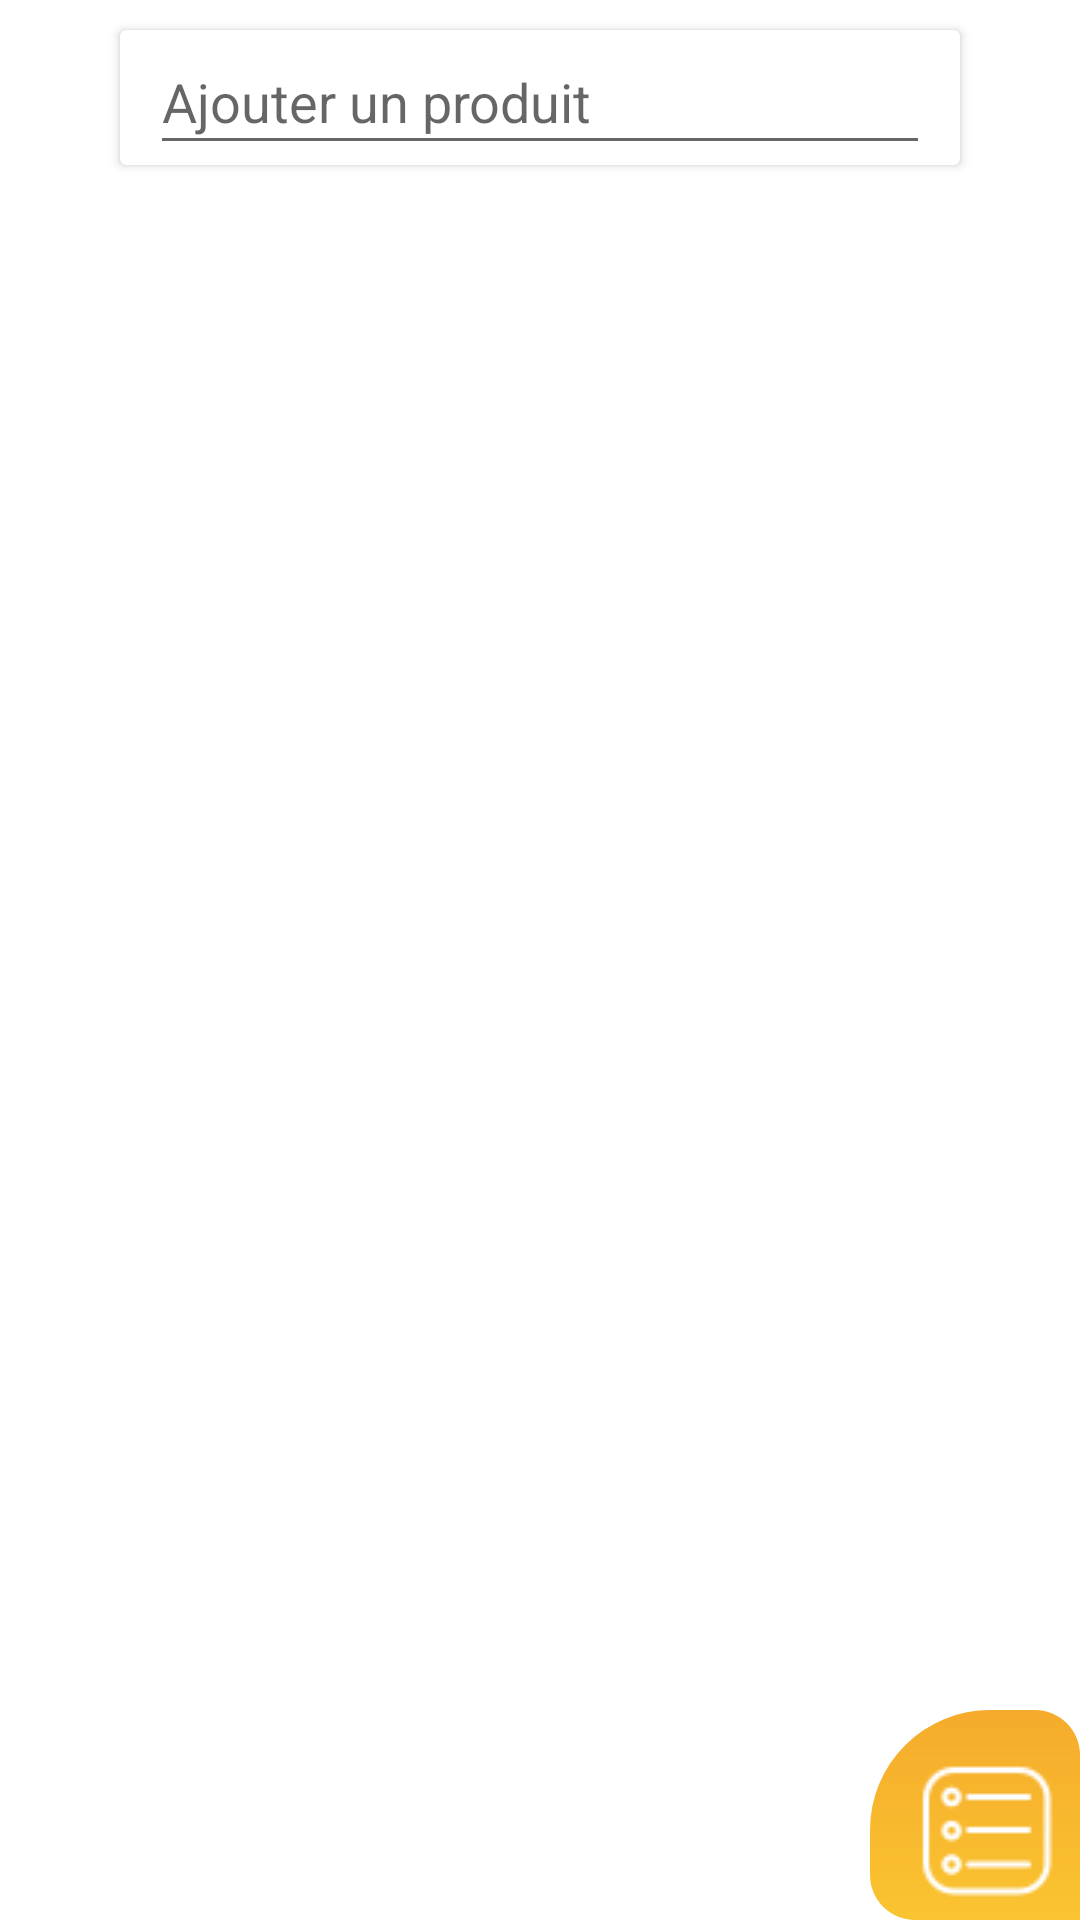

Icon bounding boxes for this 1080 x 1920 phone screenshot, format BBox(x1, y1, x2, y2):
lister: BBox(870, 1710, 1080, 1920)
